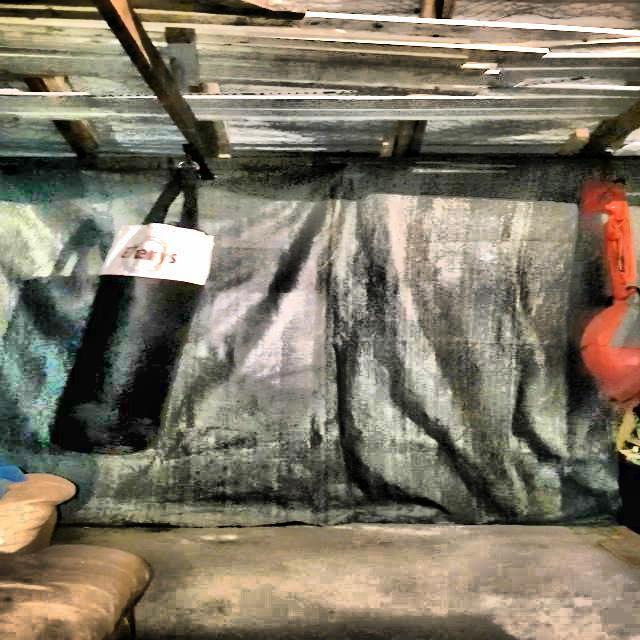boxing-bag: (57, 142, 216, 458)
